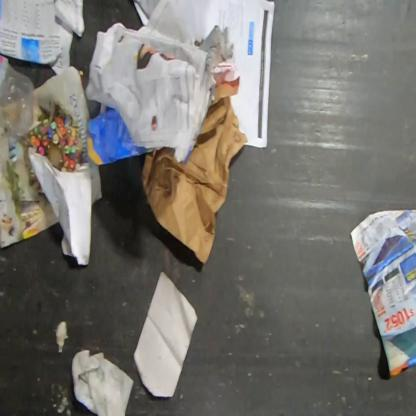cardboard: (140, 77, 249, 266)
rigid_plastic: (0, 60, 35, 143)
